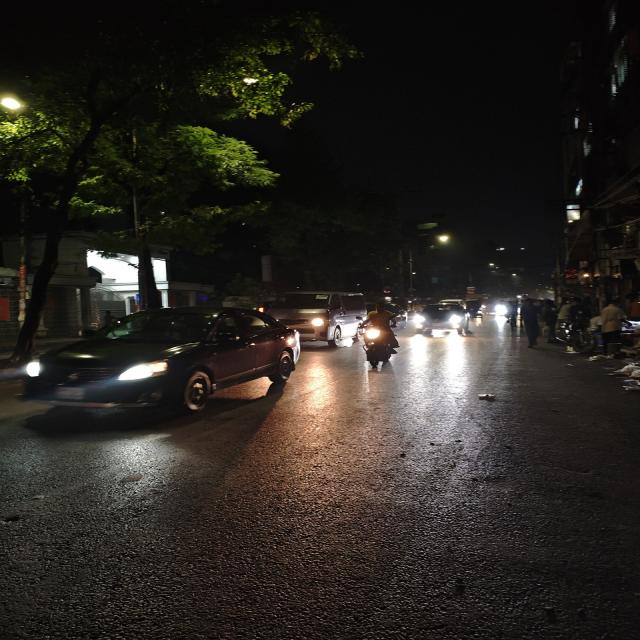bicycle: (502, 298, 523, 330)
car: (22, 301, 304, 433), (262, 289, 366, 346), (413, 300, 476, 339)
motorcycle: (351, 302, 406, 374)
pedestrian: (586, 297, 630, 363), (553, 295, 594, 355), (513, 294, 547, 349)
